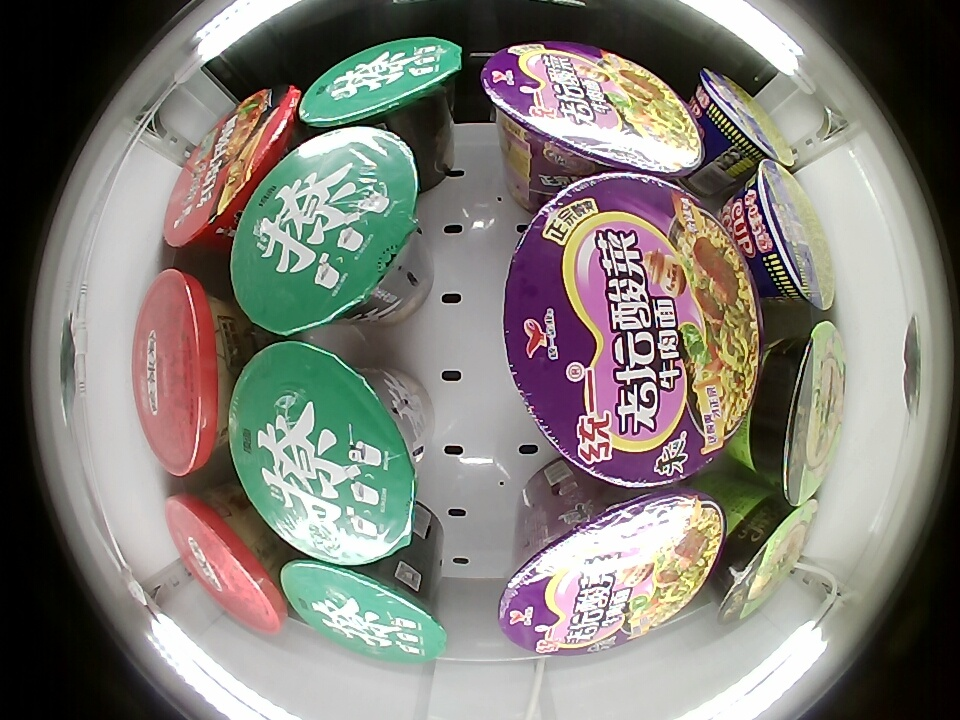heweidao: (739, 159, 835, 311), (691, 66, 795, 170)
hongshaoniurou: (165, 87, 305, 249)
laotansuancai: (503, 172, 760, 487), (498, 487, 724, 656), (480, 41, 705, 185)
liaomian: (229, 343, 417, 566), (229, 125, 420, 336), (281, 557, 447, 663), (297, 37, 463, 136)
suanlafen: (133, 267, 247, 475), (166, 488, 288, 634)
tangdaren: (744, 320, 849, 504), (713, 490, 816, 624)
